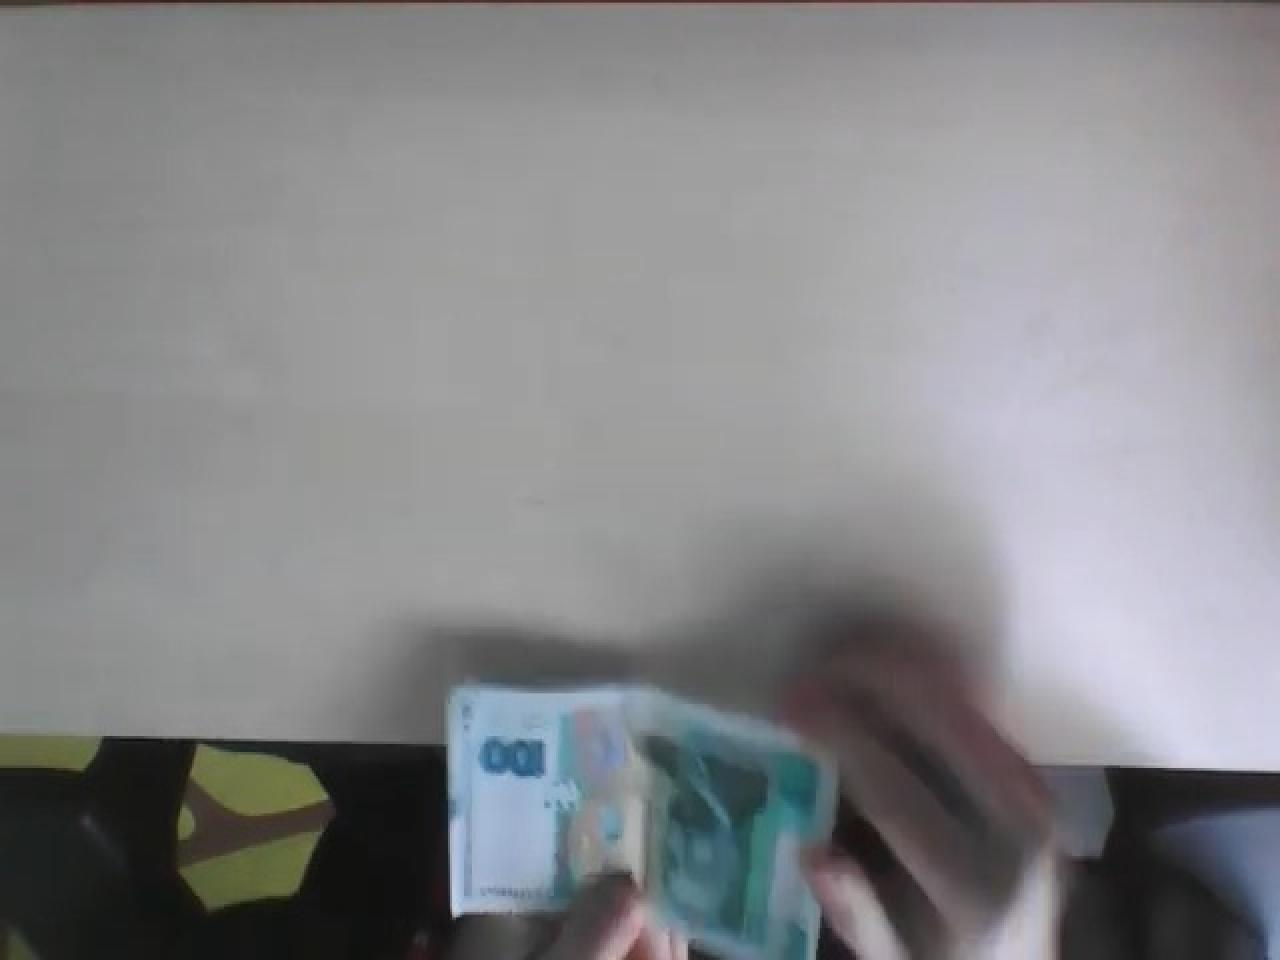100leva: (444, 678, 842, 960)
